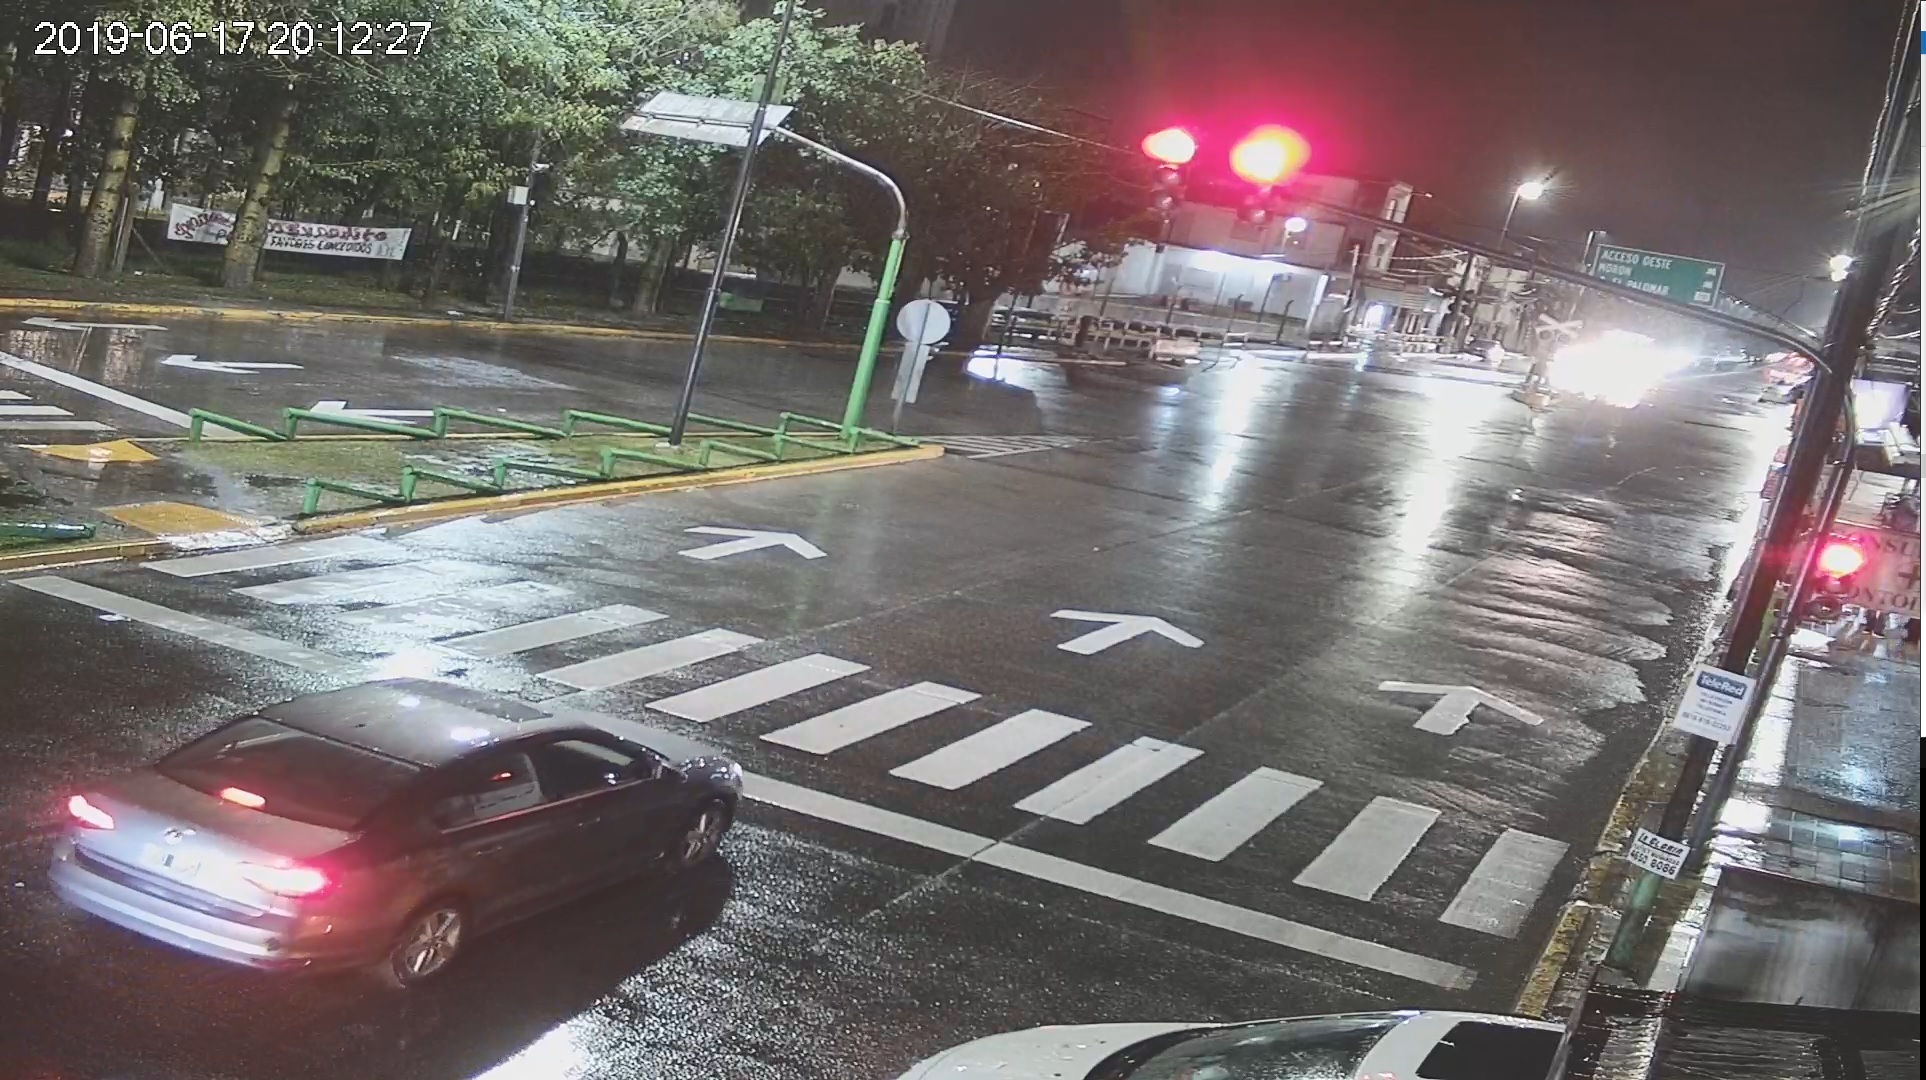car: (48, 678, 751, 991)
